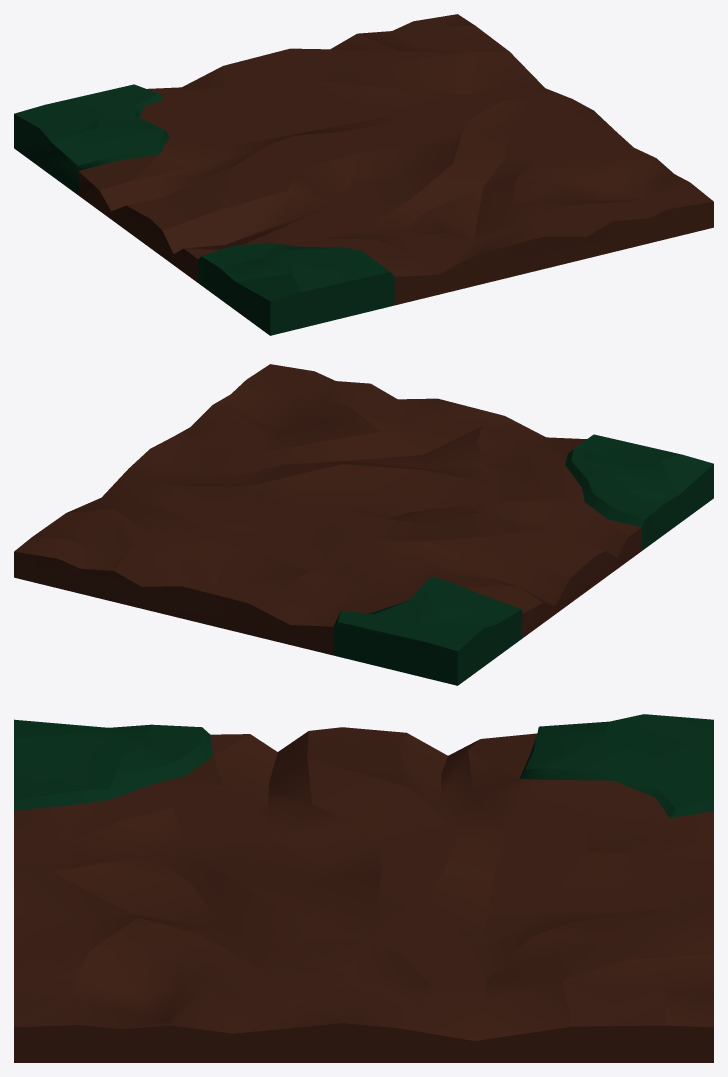
Rendered from Ground_Road_Entrance_L.fbx.
3 views of the same model, one above another, from view 1: azimuth 30°, elevation 25°; view 2: azimuth 150°, elevation 25°; view 3: azimuth 270°, elevation 25° (orthographic). The views are drawn at different scales.
Visible parts, largest first — view 1: Ground_Road_Entrance_L; view 2: Ground_Road_Entrance_L; view 3: Ground_Road_Entrance_L.
Boxes of the visible parts, <box> form: Ground_Road_Entrance_L: <box>14,14,713,335</box>; Ground_Road_Entrance_L: <box>14,364,713,685</box>; Ground_Road_Entrance_L: <box>14,714,713,1062</box>.
Size of the model in its own units: 147 by 13.39 by 147.
